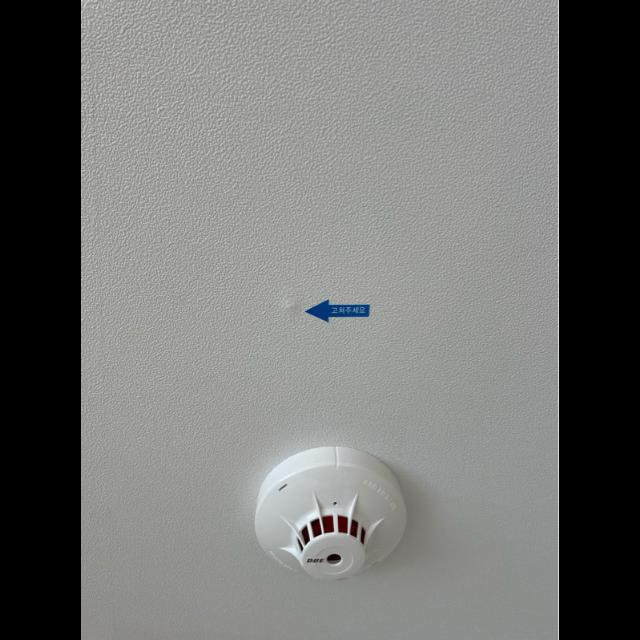Smoke-Detector: (256, 448, 408, 582)
